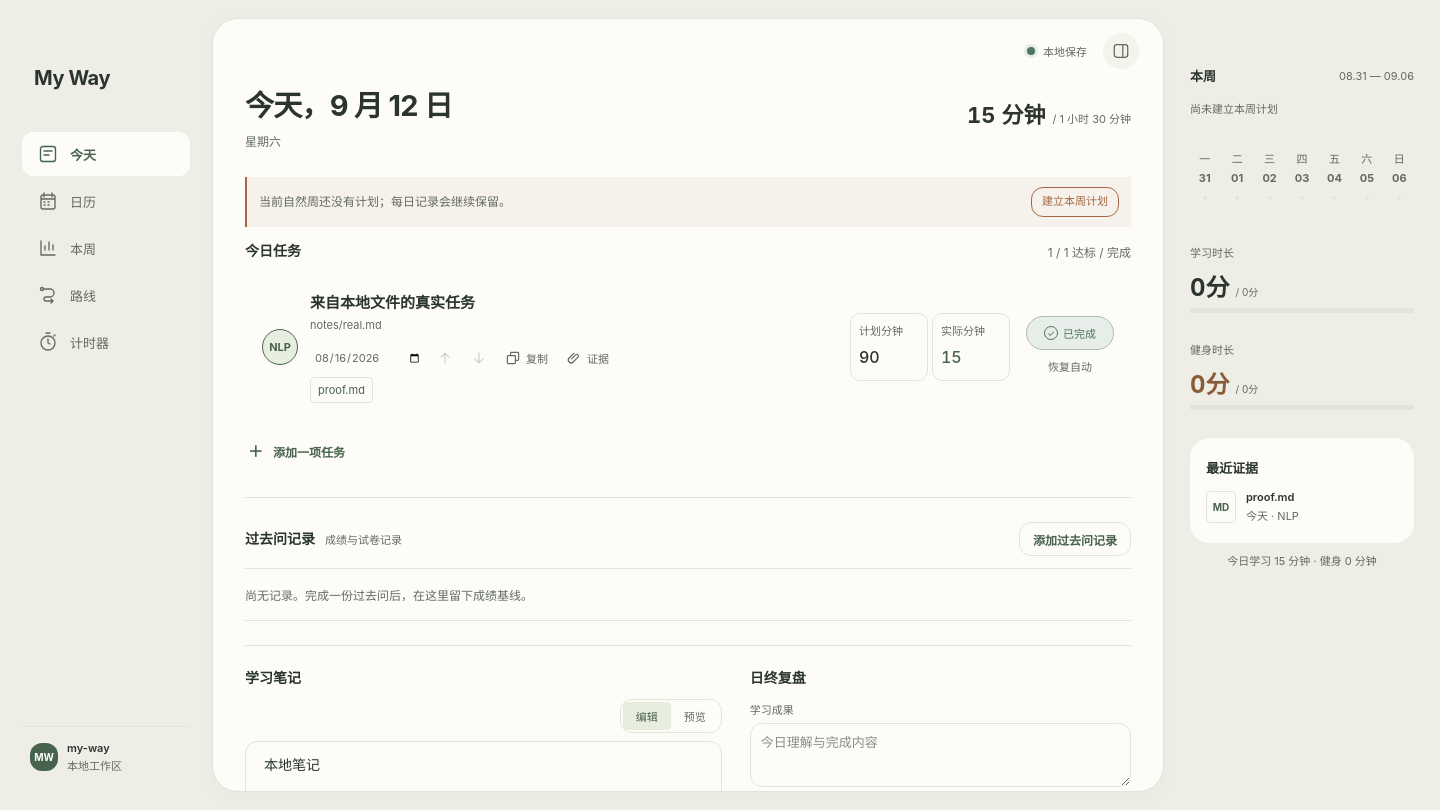
it: App desktop data flow › copies a task template without its progress, evidence or lineage
Click the button with aria-label "复制 来自本地文件的真实任务".
click(526, 358)  # box [498, 343, 555, 373]
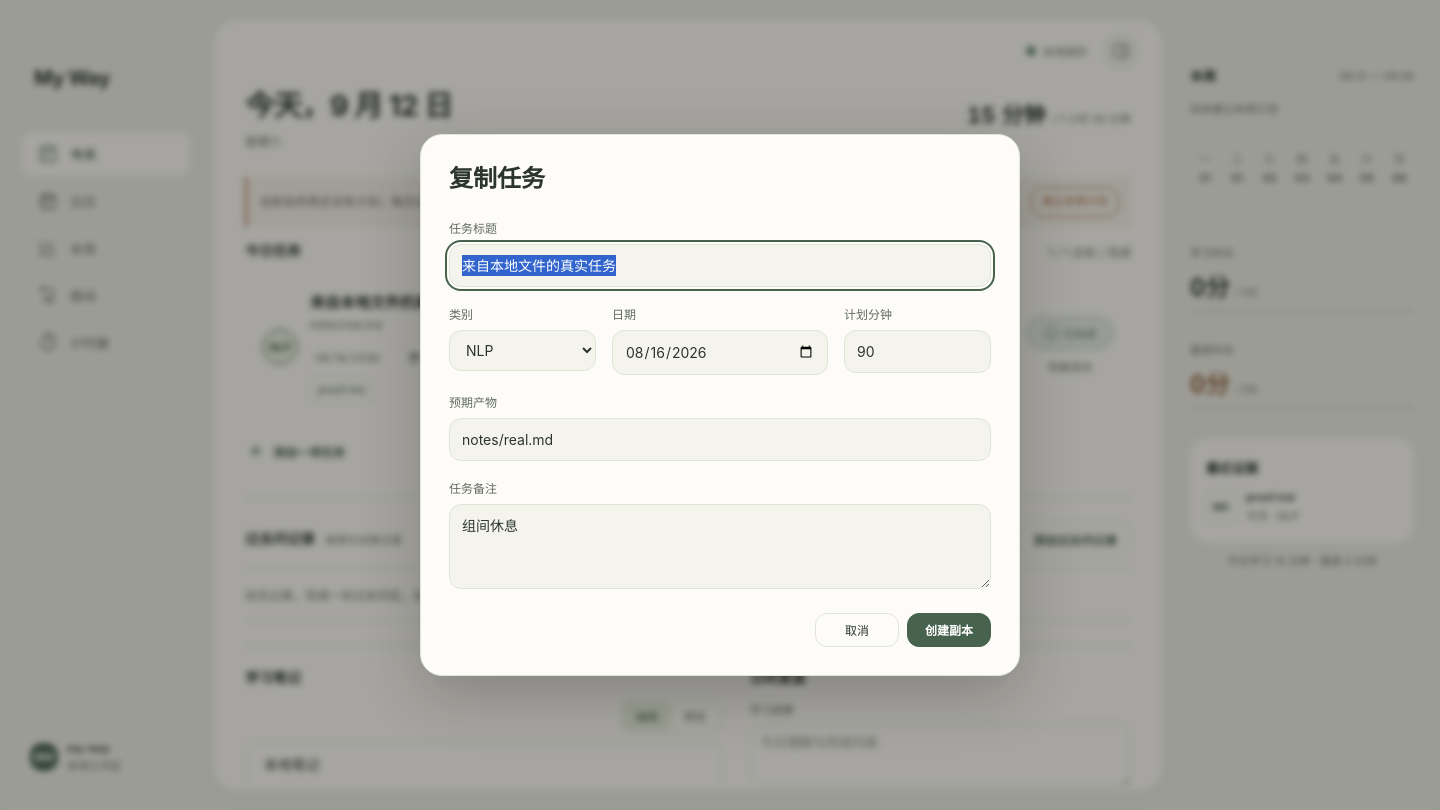
Check: the text box labelled "任务备注" holds "组间休息", box [449, 504, 991, 589]
Replace the text in the field labelled "任务标题" with "第二次训练" at [720, 265], box [449, 244, 991, 287]
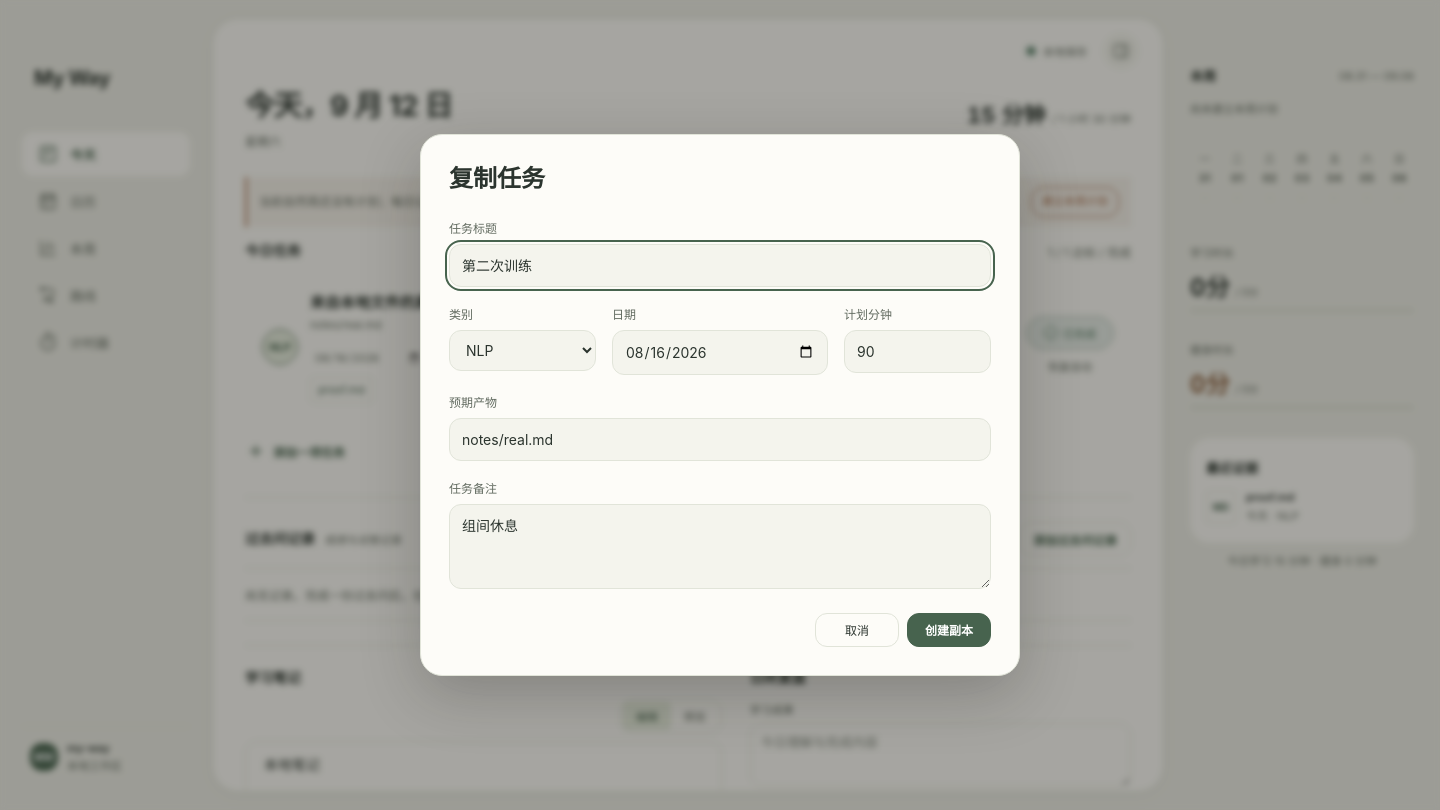
Click the button "创建副本".
click(949, 630)  # box [907, 613, 991, 647]
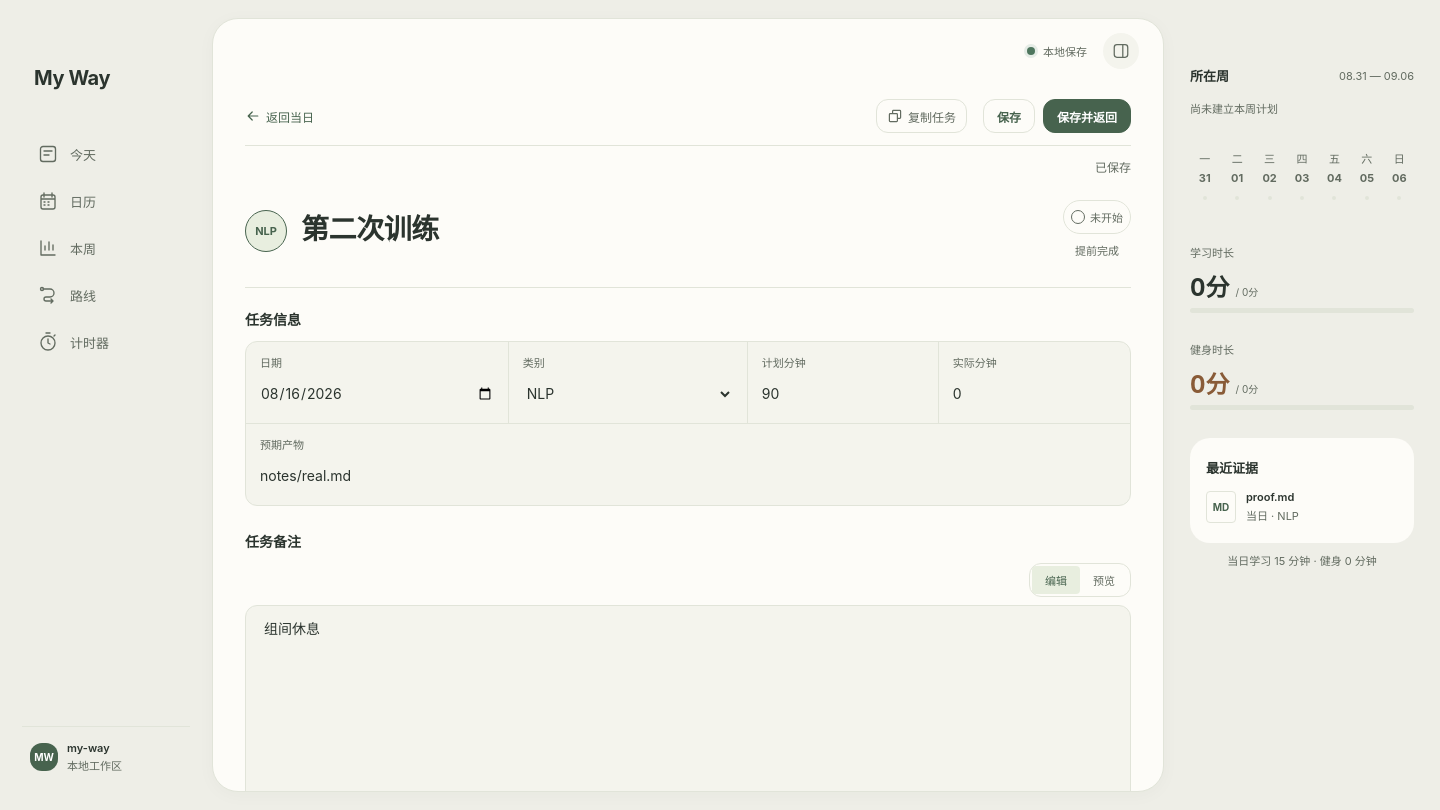
Check: the text box showing "第二次训练" is shown, box [301, 207, 1049, 255]
